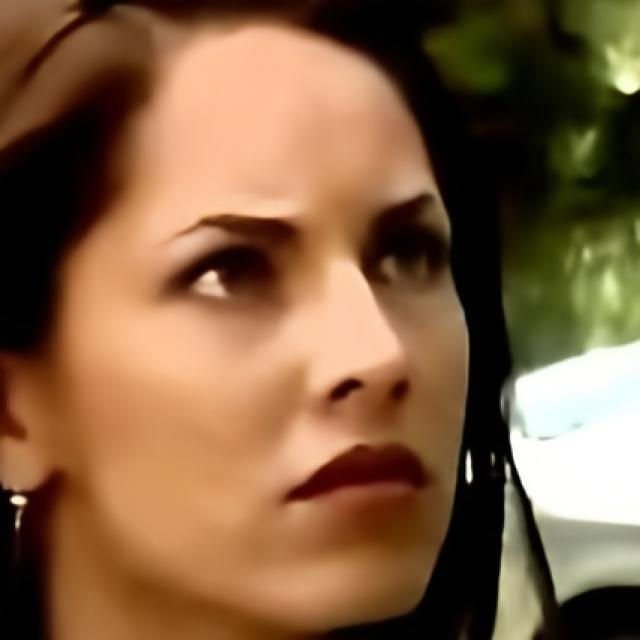anger: (54, 30, 477, 622)
